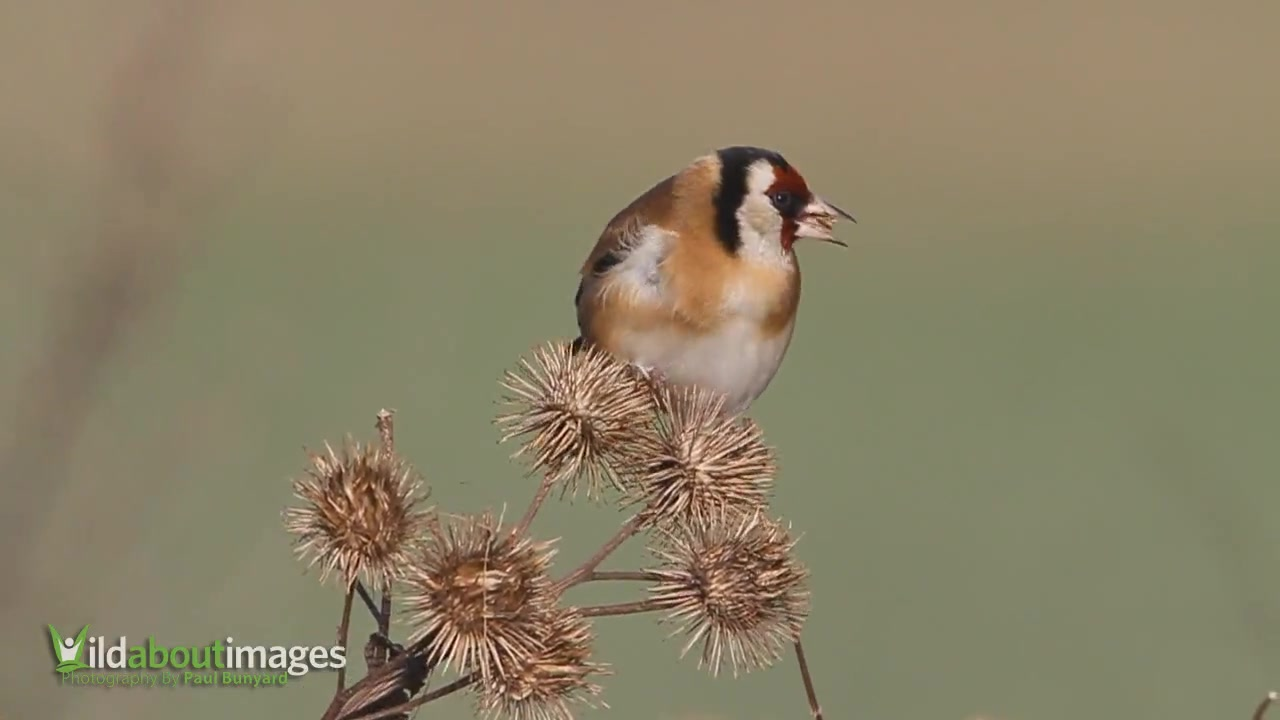bird: (576, 146, 859, 415)
